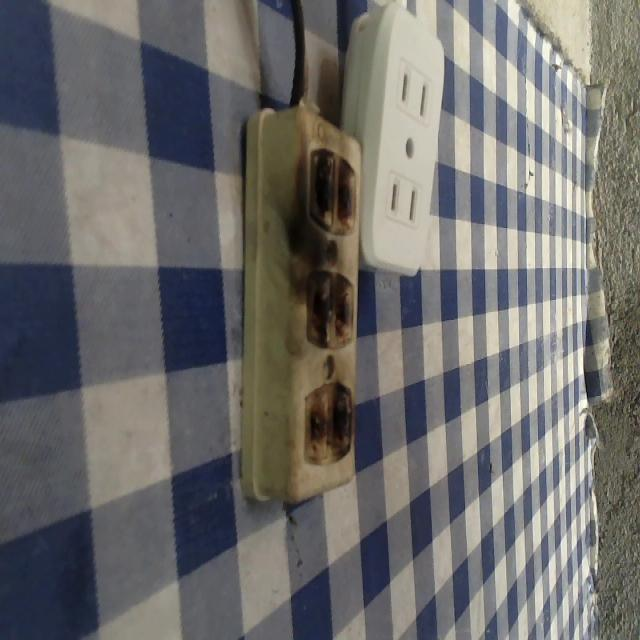-: (299, 144, 360, 240), (295, 373, 357, 467), (293, 266, 356, 354)
